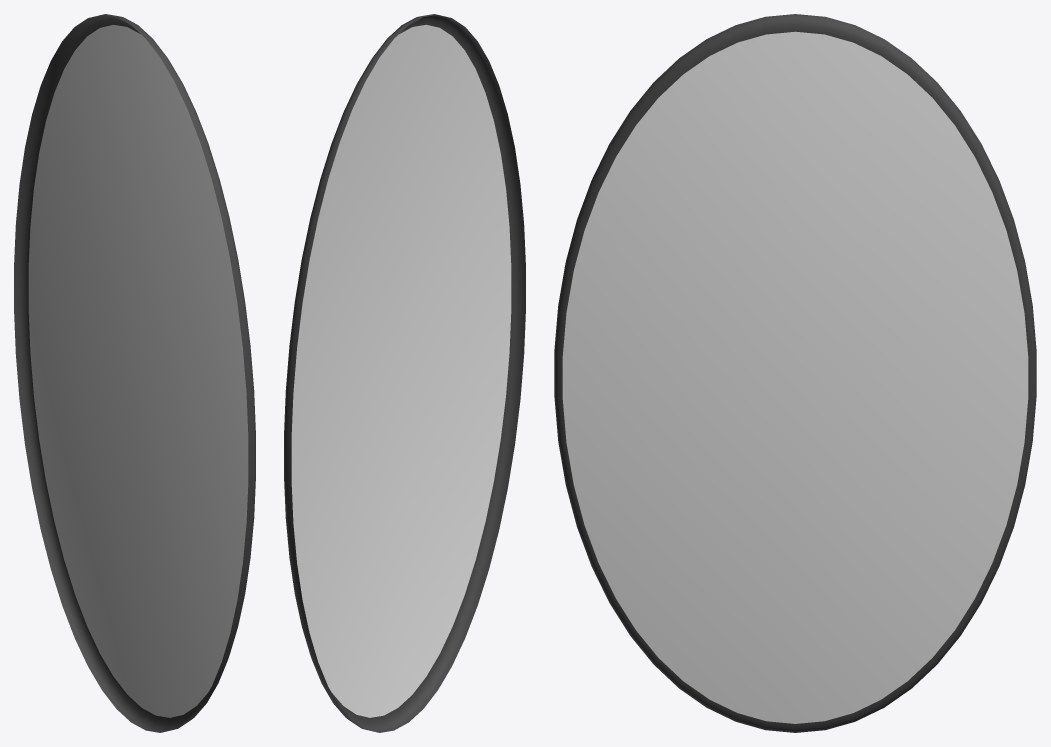
The model's file is mirror.FBX.
3 views of the same model, side by side, from view 1: azimuth 30°, elevation 25°; view 2: azimuth 150°, elevation 25°; view 3: azimuth 270°, elevation 25° (orthographic). The views are drawn at different scales.
Visible parts, largest first — view 1: mirror; view 2: mirror; view 3: mirror.
Part boxes in pixels (x1,y1,x2,y2): mirror: [14, 14, 255, 732]; mirror: [284, 14, 525, 732]; mirror: [554, 14, 1036, 732].
Bounding box in the file's own units: 0.6488 × 24.93 × 40.91.
1 material, 1 textured.
